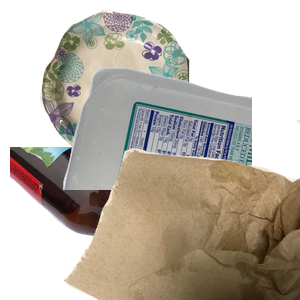glass: (10, 147, 207, 300)
paper: (37, 10, 219, 167)
plastic: (60, 65, 300, 245)
trash: (60, 120, 300, 300)
